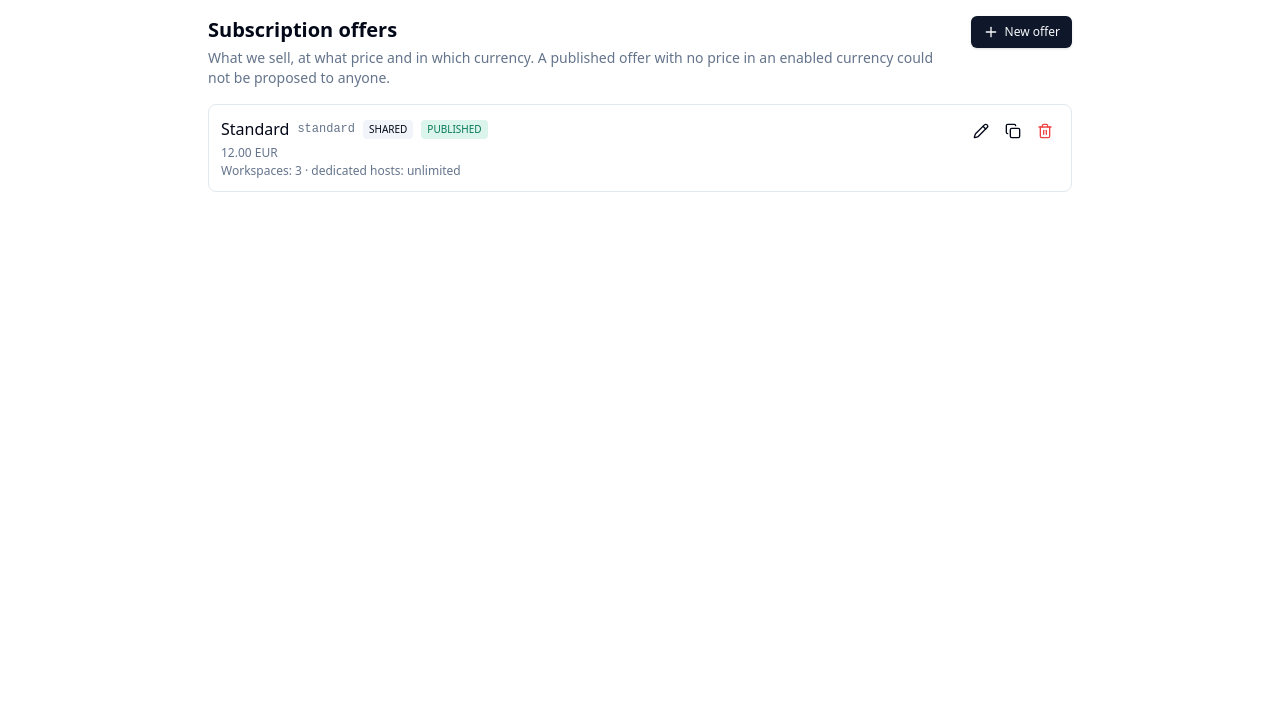
AdminBillingOffers › dit explicitement si les montants sont HT ou TTC
Click the button named "Edit offer". click: (981, 131)
box: [967,117,995,145]
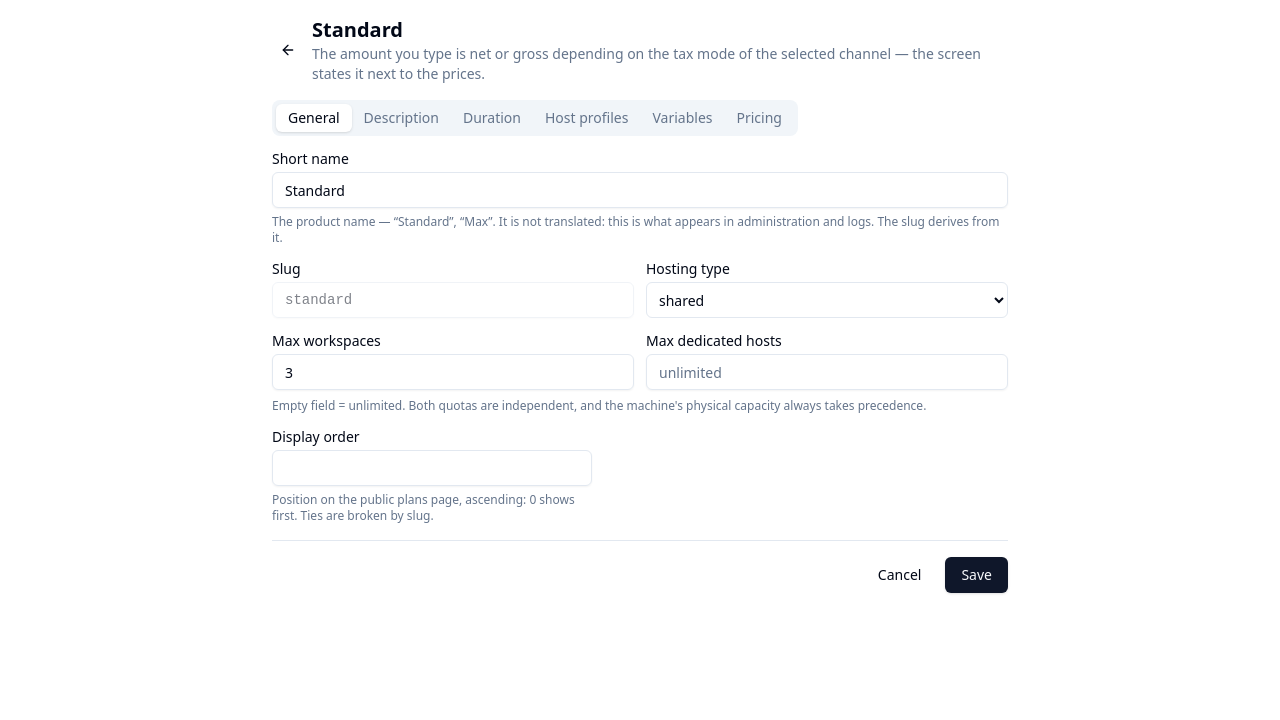
Click the tab "Pricing". click: (759, 118)
box: [724,104,794,132]
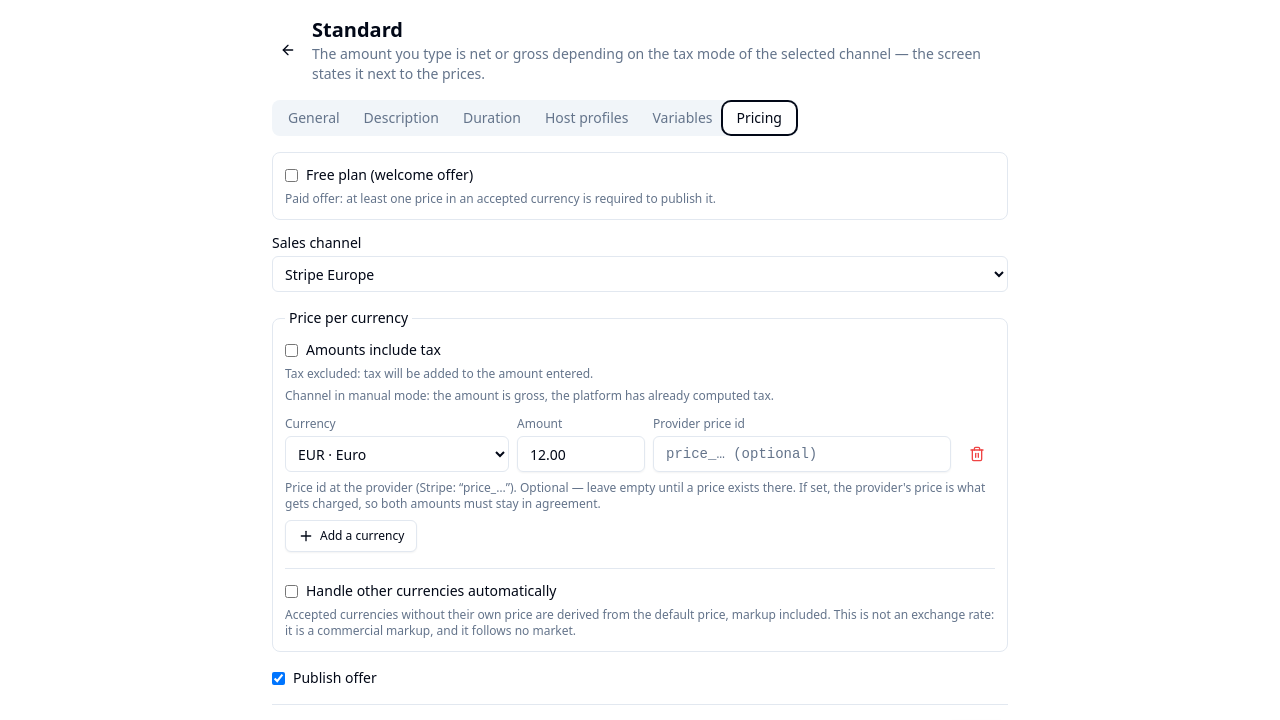
Expected: the checkbox labelled "Amounts include tax" is not checked, [285,344,298,356]
Expected: the text "Tax excluded: tax will be added to the amount entered." is shown, [285,365,593,382]
